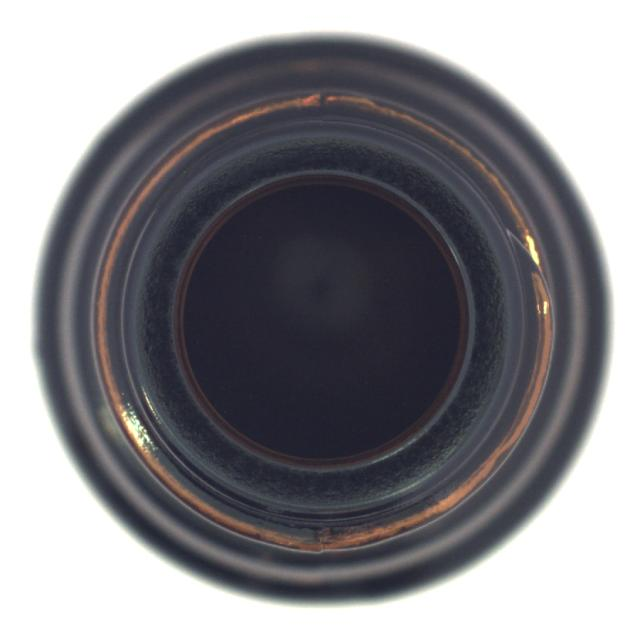bottle-good: (31, 34, 601, 604)
